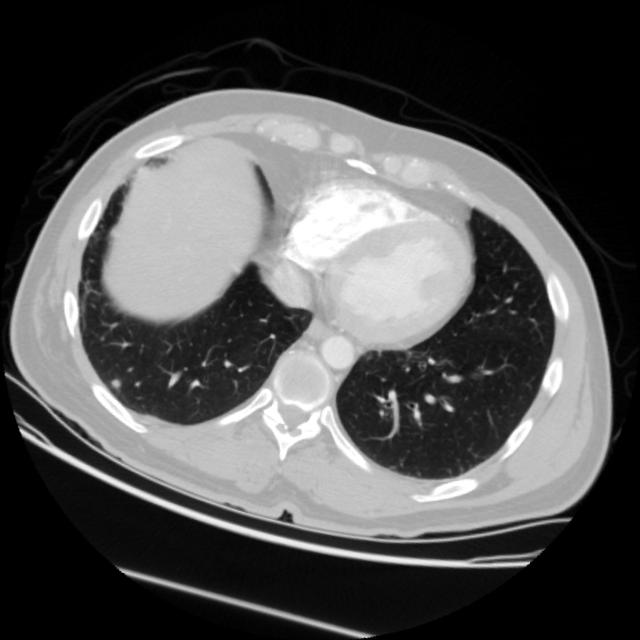nodule: (99, 366, 130, 397)
